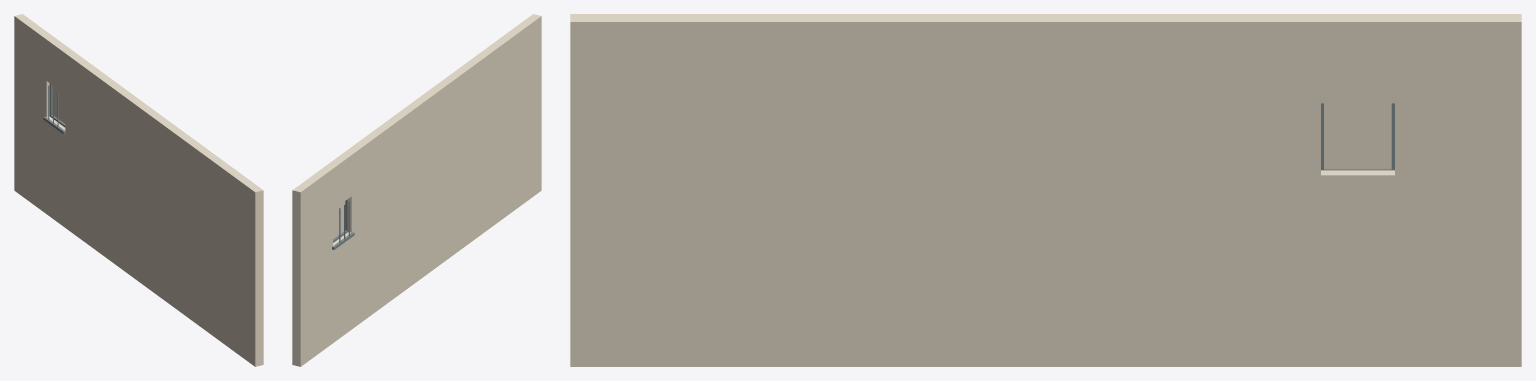
Rendered from tb_danchi_module_end_l_ground_01.fbx.
3 views of the same model, side by side, from view 1: azimuth 30°, elevation 25°; view 2: azimuth 150°, elevation 25°; view 3: azimuth 270°, elevation 25° (orthographic). The views are drawn at different scales.
Parts seen in each view (by area): view 1: tb_danchi_module_end_l_ground_01; view 2: tb_danchi_module_end_l_ground_01; view 3: tb_danchi_module_end_l_ground_01.
Boxes of the visible parts, x1,y1,x2,y2 form: tb_danchi_module_end_l_ground_01: (14, 14, 263, 366); tb_danchi_module_end_l_ground_01: (292, 14, 541, 366); tb_danchi_module_end_l_ground_01: (570, 14, 1521, 366).
Size of what is drawn, in the model's own units: 0.24 by 3.6 by 9.
Materials: 2 (2 with a texture image).
